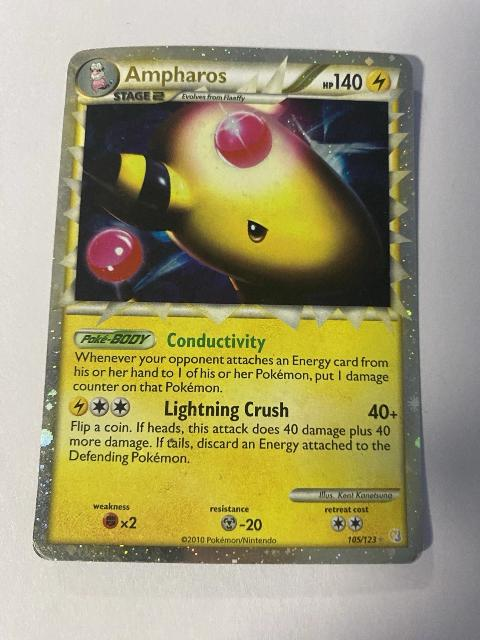Card: (30, 42, 425, 567)
Name: (123, 62, 231, 91)
